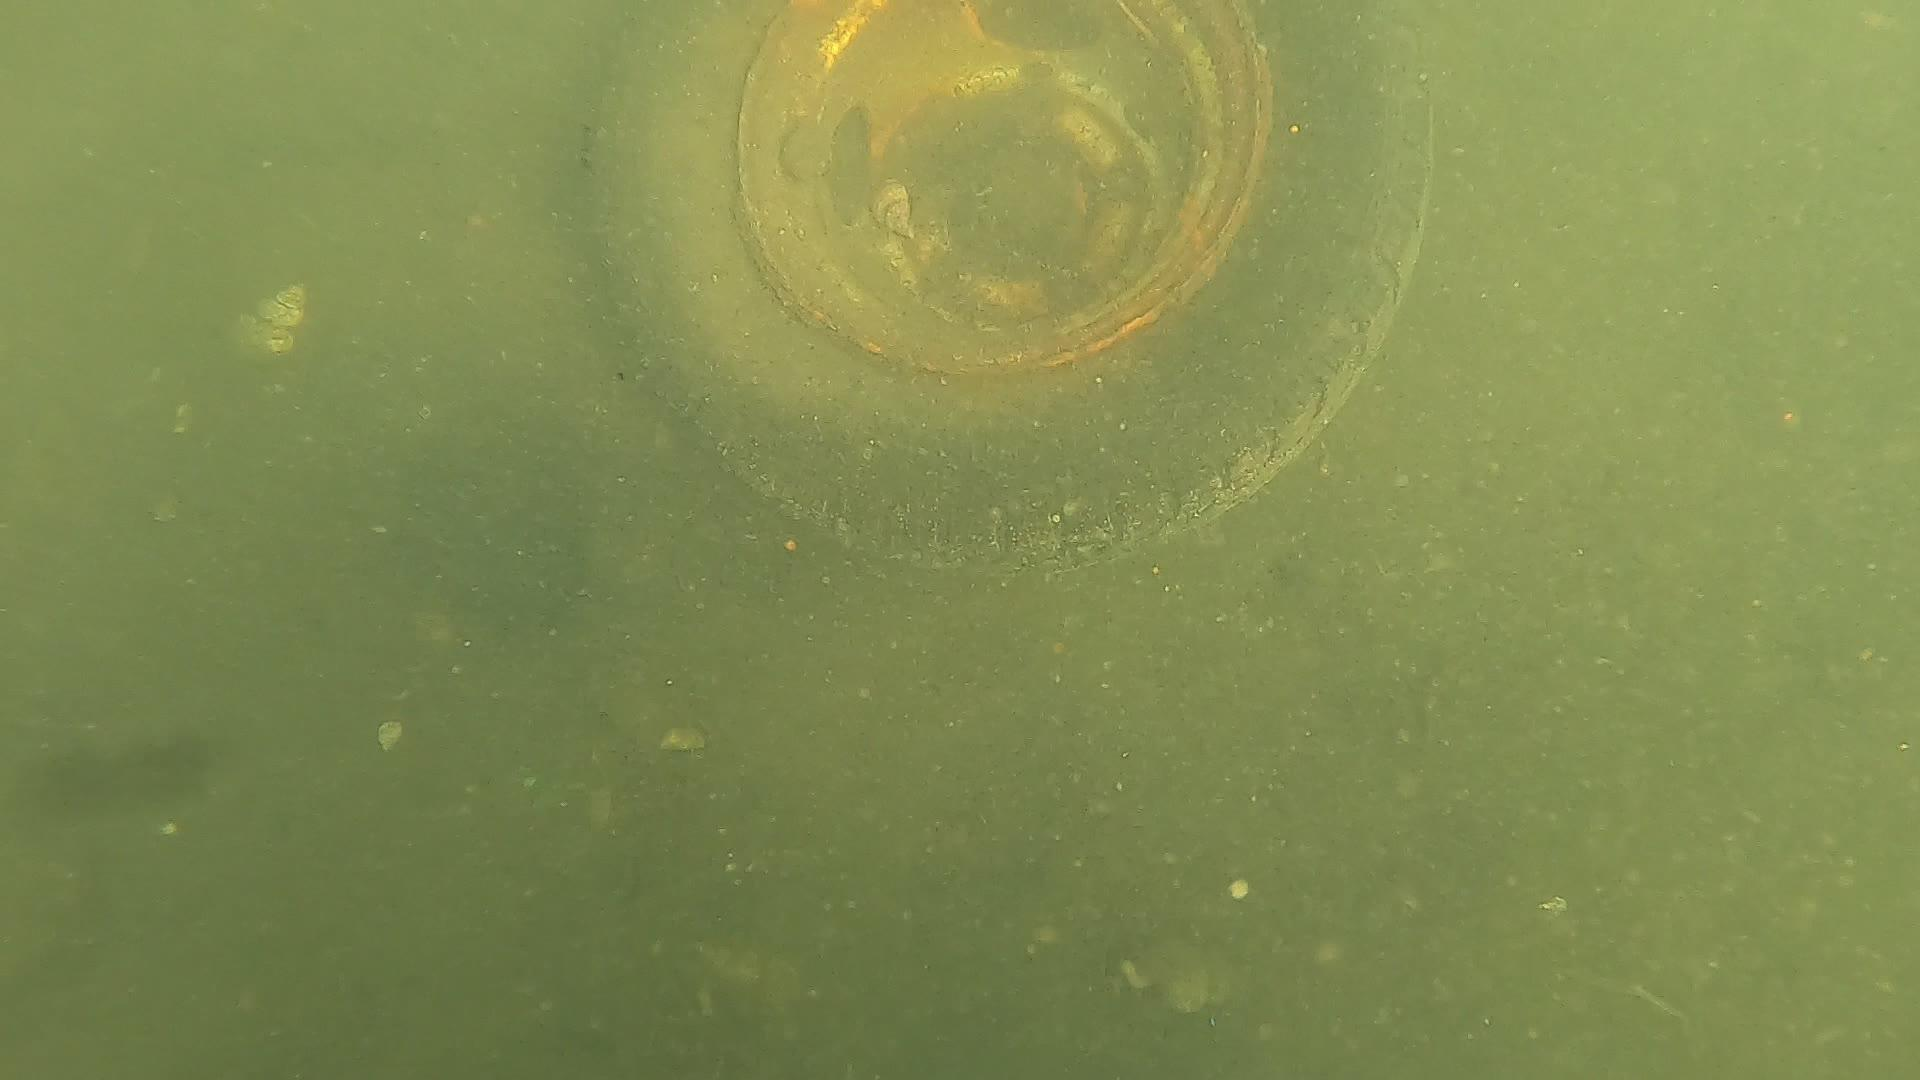tire: (584, 0, 1440, 568)
